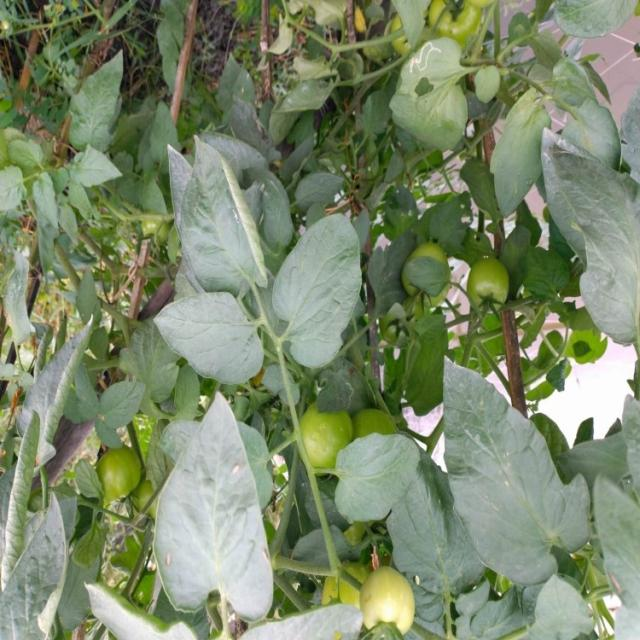tomato: (293, 392, 361, 481), (356, 563, 419, 632), (465, 253, 514, 334), (423, 1, 488, 53), (93, 439, 136, 511)
